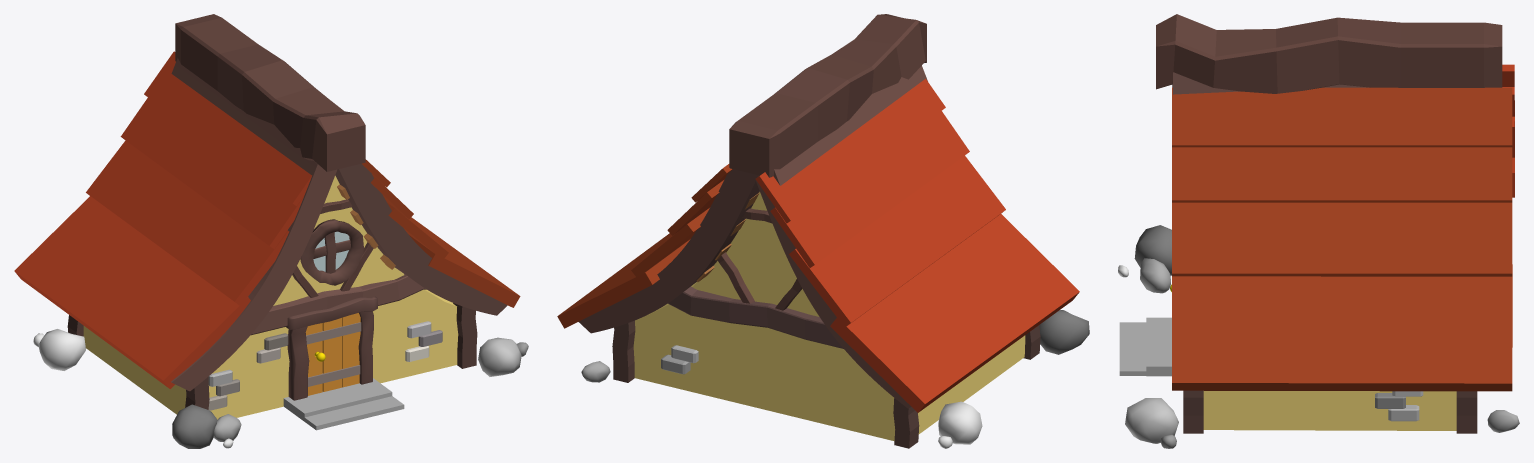
File: Cottage House.glb
3 views of the same model, side by side, from view 1: azimuth 30°, elevation 25°; view 2: azimuth 150°, elevation 25°; view 3: azimuth 270°, elevation 25° (orthographic). The views are drawn at different scales.
Parts seen in each view (by area): view 1: Cube.053, Cube, Cube.001, NurbsPath.001, NurbsPath, Cube.049, Cube.004, Cube.044, Cube.002, Cube.007, Cube.020, Cube.026 (+8 smaller); view 2: Cube.053, Cube, Cube.001, NurbsPath, Cube.049, NurbsPath.001, Cube.003, Cube.026, Icosphere.002, Icosphere.009, Cube.041; view 3: Cube.049, Cube.001, Cube, Cube.044, Cube.026, Icosphere, Icosphere.002, Icosphere.003, NurbsPath, Cube.053, Icosphere.005, Cube.040 (+1 smaller).
Part boxes in pixels (left/top/right/bottom): Cube.053: left=14, top=51, right=311, bottom=388; Cube: left=83, top=175, right=458, bottom=419; Cube.001: left=175, top=14, right=365, bottom=171; NurbsPath.001: left=171, top=58, right=336, bottom=391; NurbsPath: left=335, top=163, right=507, bottom=315; Cube.049: left=362, top=159, right=520, bottom=307; Cube.004: left=286, top=296, right=377, bottom=400; Cube.044: left=283, top=378, right=404, bottom=430; Cube.002: left=251, top=274, right=426, bottom=335; Cube.007: left=300, top=219, right=363, bottom=285; Cube.020: left=305, top=313, right=360, bottom=395; Cube.026: left=67, top=303, right=477, bottom=409; Cube.053: left=755, top=78, right=1079, bottom=412; Cube: left=633, top=191, right=1025, bottom=441; Cube.001: left=729, top=14, right=926, bottom=177; NurbsPath: left=578, top=169, right=759, bottom=333; Cube.049: left=557, top=164, right=732, bottom=328; NurbsPath.001: left=756, top=66, right=927, bottom=408; Cube.003: left=668, top=286, right=843, bottom=348; Cube.026: left=612, top=320, right=1040, bottom=448; Icosphere.002: left=1039, top=310, right=1089, bottom=354; Icosphere.009: left=938, top=401, right=982, bottom=444; Cube.041: left=717, top=208, right=802, bottom=310; Cube.049: left=1172, top=87, right=1512, bottom=391; Cube.001: left=1156, top=14, right=1502, bottom=93; Cube: left=1203, top=391, right=1456, bottom=430; Cube.044: left=1119, top=317, right=1171, bottom=376; Cube.026: left=1183, top=390, right=1477, bottom=433; Icosphere: left=1125, top=398, right=1178, bottom=443; Icosphere.002: left=1134, top=225, right=1171, bottom=275; Icosphere.003: left=1140, top=258, right=1170, bottom=293; NurbsPath: left=1172, top=72, right=1368, bottom=94; Cube.053: left=1502, top=64, right=1514, bottom=197; Icosphere.005: left=1487, top=410, right=1519, bottom=432; Cube.040: left=1388, top=405, right=1419, bottom=421.
Size of the model in its own units: 7.07 by 5.27 by 5.77.
